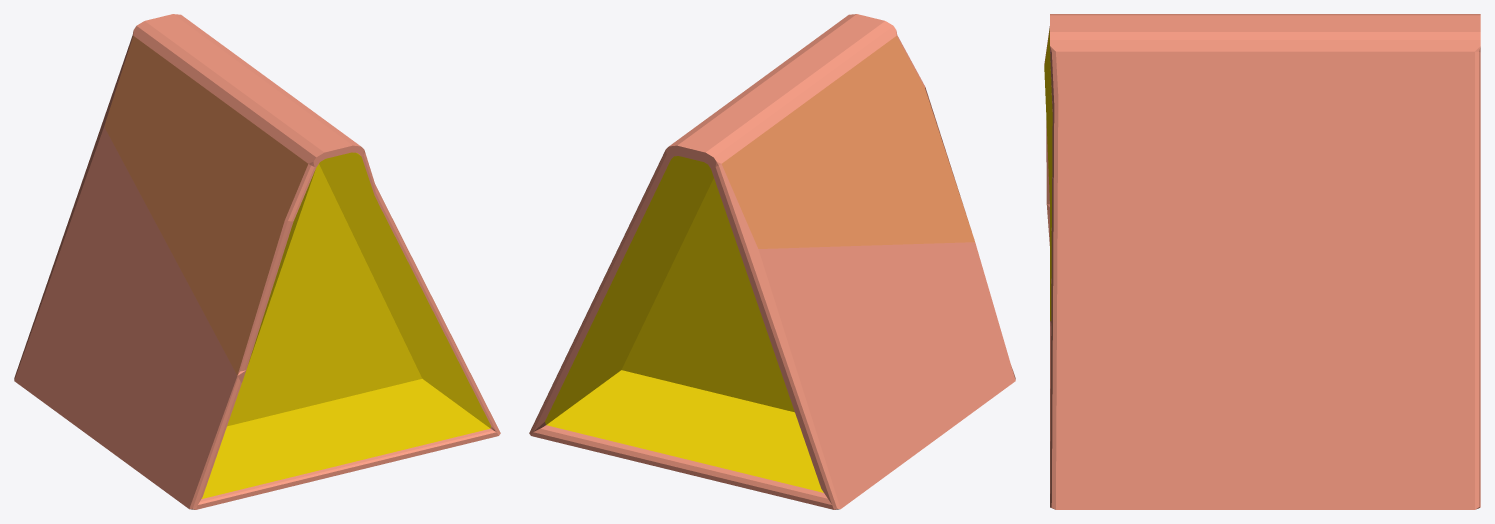
The model's file is MeteorSoldierSpawnCamp.fbx.
3 renders of one model, left to right at view 1: azimuth 30°, elevation 25°; view 2: azimuth 150°, elevation 25°; view 3: azimuth 270°, elevation 25°, orthographic. The views are drawn at different scales.
Parts seen in each view (by area): view 1: MeteorSpawnCamp; view 2: MeteorSpawnCamp; view 3: MeteorSpawnCamp.
Boxes of the visible parts, box(x1,y1,x2,y2) form: MeteorSpawnCamp: box(14, 14, 500, 509); MeteorSpawnCamp: box(529, 14, 1015, 509); MeteorSpawnCamp: box(1044, 14, 1480, 509).
Size of the model in its own units: 2 by 2.03 by 2.
